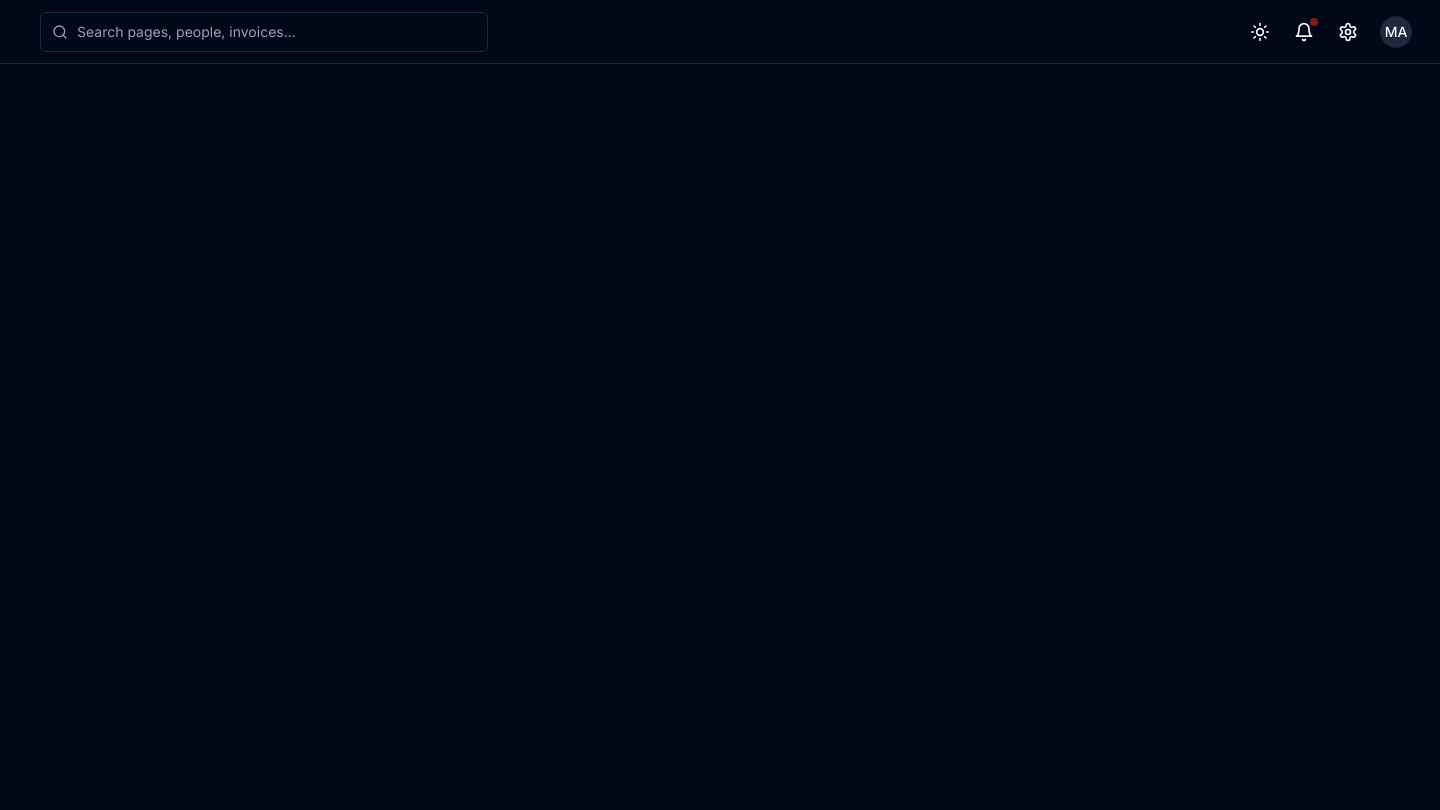
Scenario: TopBar › opens the notifications panel from the bell
Click the button named "notifications": click(1304, 32) [1284,12,1324,52]
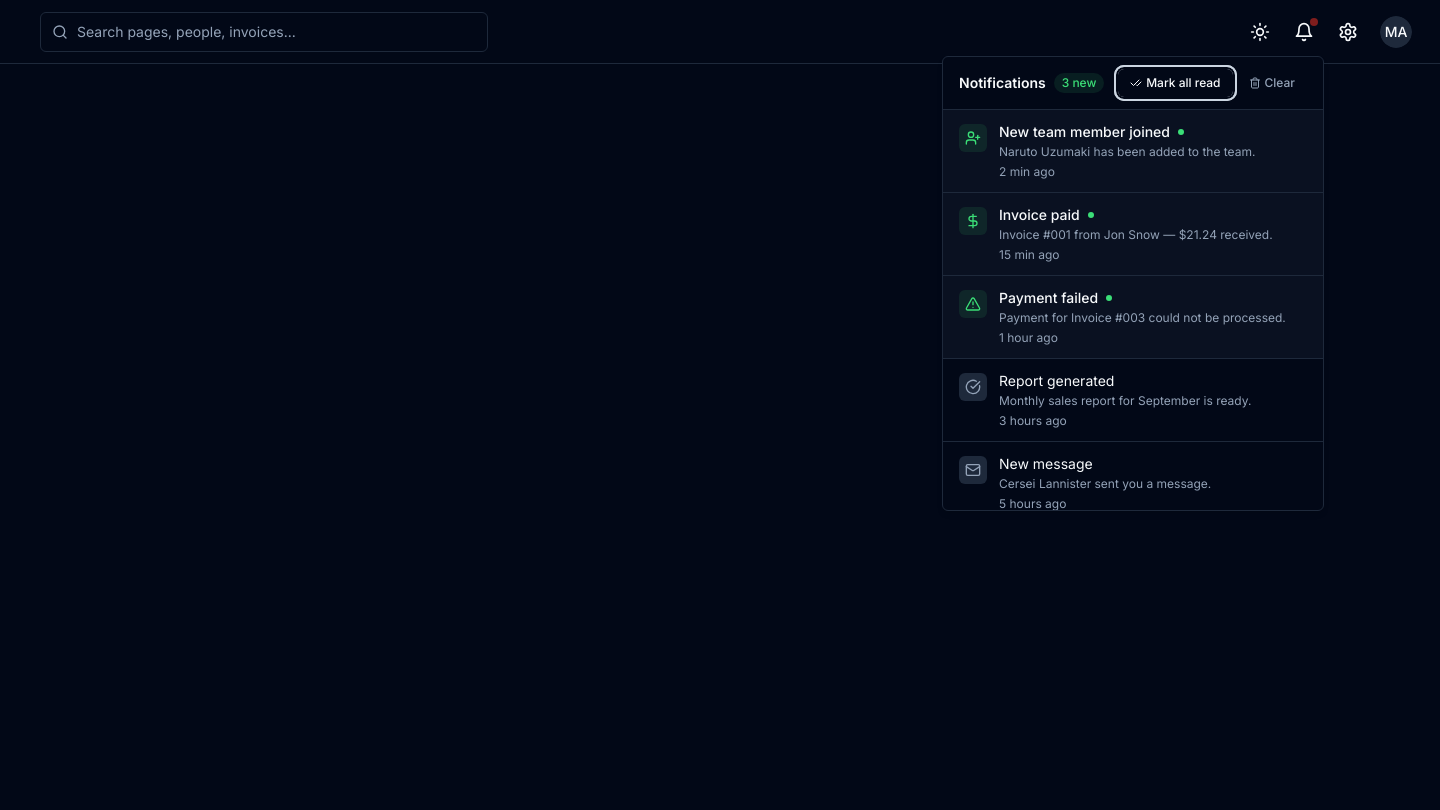
Result: the heading "Notifications" is shown at [959,73,1046,93]
Result: the text "3 new" is shown at [1054,73,1104,93]
